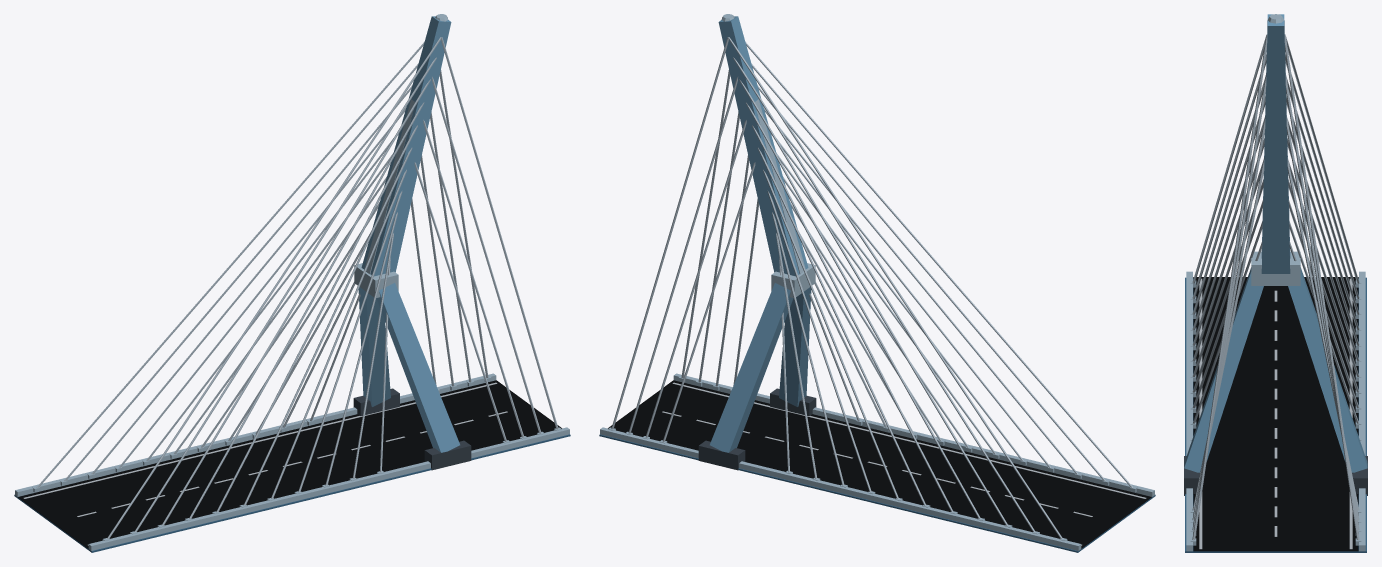
File: rotterdam_landmarks.glb
3 views of the same model, side by side, from view 1: azimuth 30°, elevation 25°; view 2: azimuth 150°, elevation 25°; view 3: azimuth 270°, elevation 25° (orthographic). The views are drawn at different scales.
Parts seen in each view (by area): view 1: ERASMUS_BRIDGE; view 2: ERASMUS_BRIDGE; view 3: ERASMUS_BRIDGE.
Boxes of the visible parts, <box> form: ERASMUS_BRIDGE: <box>14,14,570,552</box>; ERASMUS_BRIDGE: <box>599,14,1155,552</box>; ERASMUS_BRIDGE: <box>1184,14,1367,552</box>.
Bounding box in the file's own units: 13.96 × 11.53 × 3.96.
